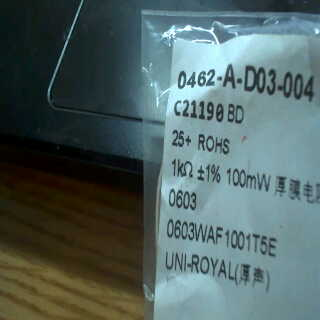1kR: (170, 154, 195, 181)
